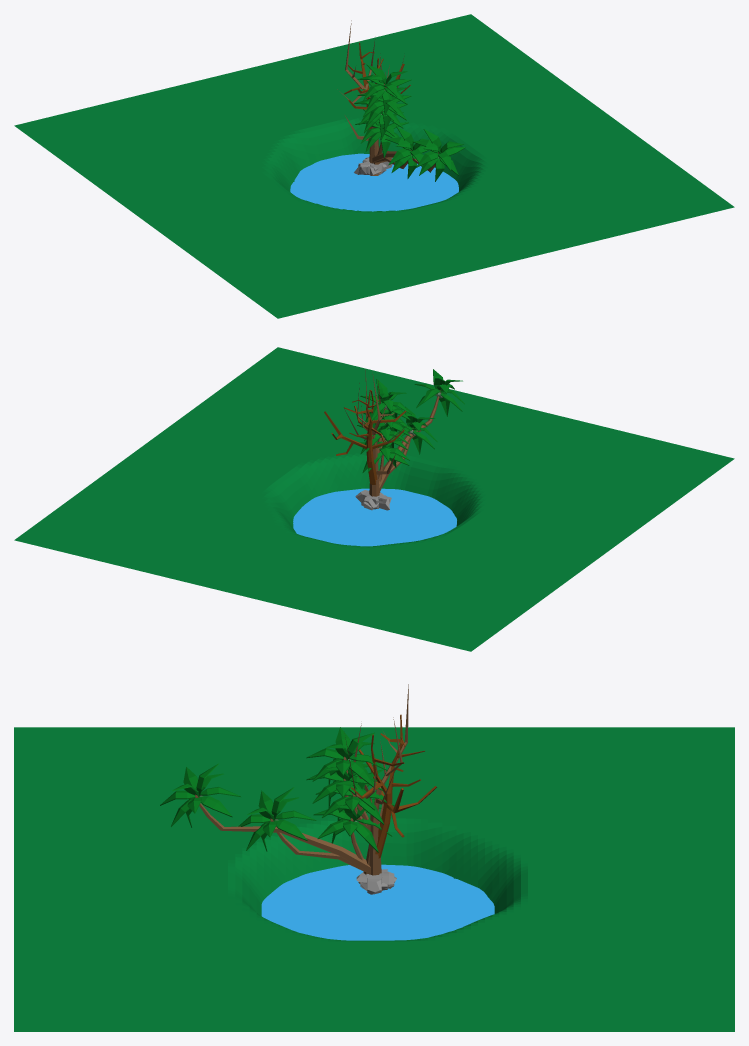
The model's file is Kugawana.gltf.
3 renders of one model, top to bottom at view 1: azimuth 30°, elevation 25°; view 2: azimuth 150°, elevation 25°; view 3: azimuth 270°, elevation 25°, orthographic. The views are drawn at different scales.
Visible parts, largest first — view 1: Ground, Water, Material_001-material.011, Material_001-material.009, Material_001-material.010, Material_001-material.008, Material_001-material.156, Material_001-material.019, Material_001-material.157; view 2: Ground, Water, Material_001-material.020, Material_001-material.011, Material_001-material.019, Material_001-material.009, Material_001-material.010, Material_001-material.008; view 3: Ground, Water, Material_001-material.011, Material_001-material.010, Material_001-material.020, Material_001-material.009, Material_001-material.019, Material_001-material.008, Material_001-material.156, Material_001-material.157.
Boxes of the visible parts, bbox=[...] form: Ground: bbox=[14, 14, 734, 318]; Water: bbox=[290, 153, 458, 211]; Material_001-material.011: bbox=[370, 129, 465, 181]; Material_001-material.009: bbox=[357, 64, 411, 173]; Material_001-material.010: bbox=[374, 126, 430, 178]; Material_001-material.008: bbox=[355, 109, 408, 157]; Material_001-material.156: bbox=[357, 80, 411, 131]; Material_001-material.019: bbox=[337, 20, 404, 175]; Material_001-material.157: bbox=[354, 88, 407, 139]; Ground: bbox=[14, 347, 734, 651]; Water: bbox=[293, 488, 456, 546]; Material_001-material.020: bbox=[324, 390, 406, 484]; Material_001-material.011: bbox=[378, 369, 464, 508]; Material_001-material.019: bbox=[344, 369, 406, 496]; Material_001-material.009: bbox=[360, 379, 411, 492]; Material_001-material.010: bbox=[382, 406, 437, 486]; Material_001-material.008: bbox=[359, 439, 409, 482]; Ground: bbox=[14, 727, 734, 1031]; Water: bbox=[261, 864, 494, 940]; Material_001-material.011: bbox=[160, 763, 382, 890]; Material_001-material.010: bbox=[238, 787, 368, 872]; Material_001-material.020: bbox=[351, 714, 436, 858]; Material_001-material.009: bbox=[306, 727, 387, 883]; Material_001-material.019: bbox=[344, 684, 408, 875]; Material_001-material.008: bbox=[313, 799, 392, 860]; Material_001-material.156: bbox=[306, 754, 382, 829]; Material_001-material.157: bbox=[315, 769, 394, 824].
Bounding box in the file's own units: 100 × 40.22 × 100.
Materials: 3 (1 with a texture image).
